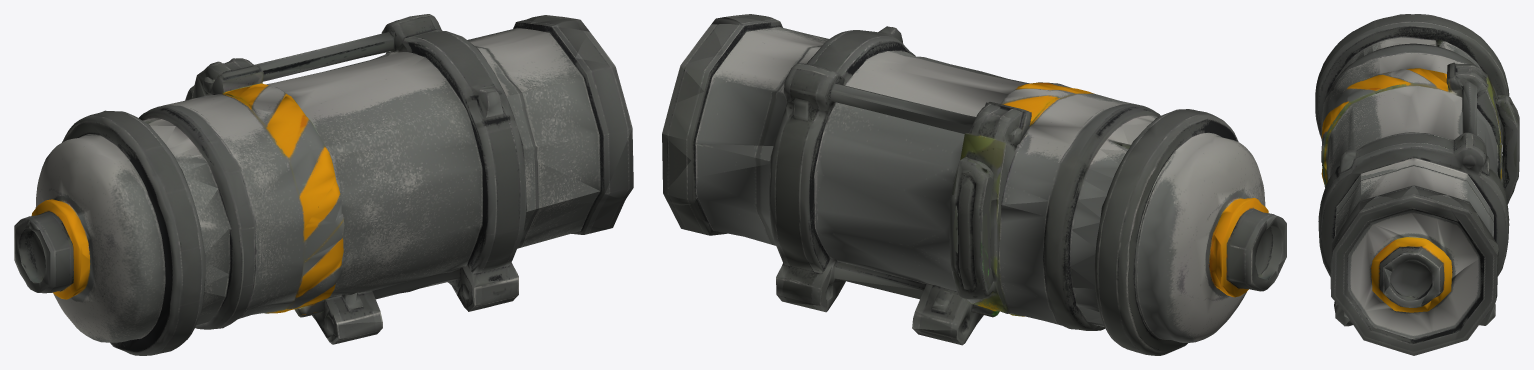
Rendered from 12_debris_cylinder.fbx.
3 views of the same model, side by side, from view 1: azimuth 30°, elevation 25°; view 2: azimuth 150°, elevation 25°; view 3: azimuth 270°, elevation 25° (orthographic). The views are drawn at different scales.
Parts seen in each view (by area): view 1: 12_debris_cylinder; view 2: 12_debris_cylinder; view 3: 12_debris_cylinder.
Part boxes in pixels (x1=…): 12_debris_cylinder: x1=14, y1=14, x2=633, y2=355; 12_debris_cylinder: x1=662, y1=14, x2=1286, y2=355; 12_debris_cylinder: x1=1315, y1=14, x2=1519, y2=355.
Bounding box in the file's own units: 0.8 × 0.3153 × 0.321.
Materials: 1 (1 with a texture image).
